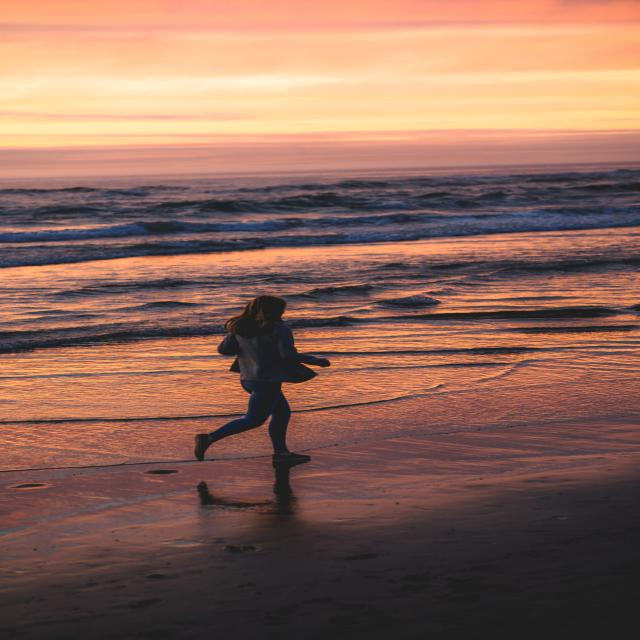running: (188, 291, 338, 472)
